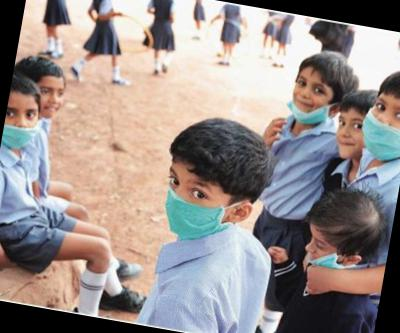mask_weared_incorrect: (284, 75, 334, 128), (1, 102, 45, 154), (301, 233, 343, 273)
with_mask: (156, 163, 233, 248), (356, 94, 400, 166)
without_mask: (332, 110, 367, 162), (34, 80, 67, 122)
